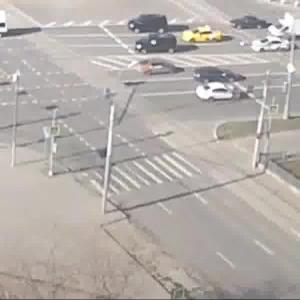car: (188, 63, 248, 84), (192, 81, 240, 104), (138, 34, 181, 58), (130, 14, 173, 35), (175, 28, 227, 45), (254, 38, 300, 57), (138, 60, 183, 78), (229, 15, 267, 31), (271, 17, 300, 37)
